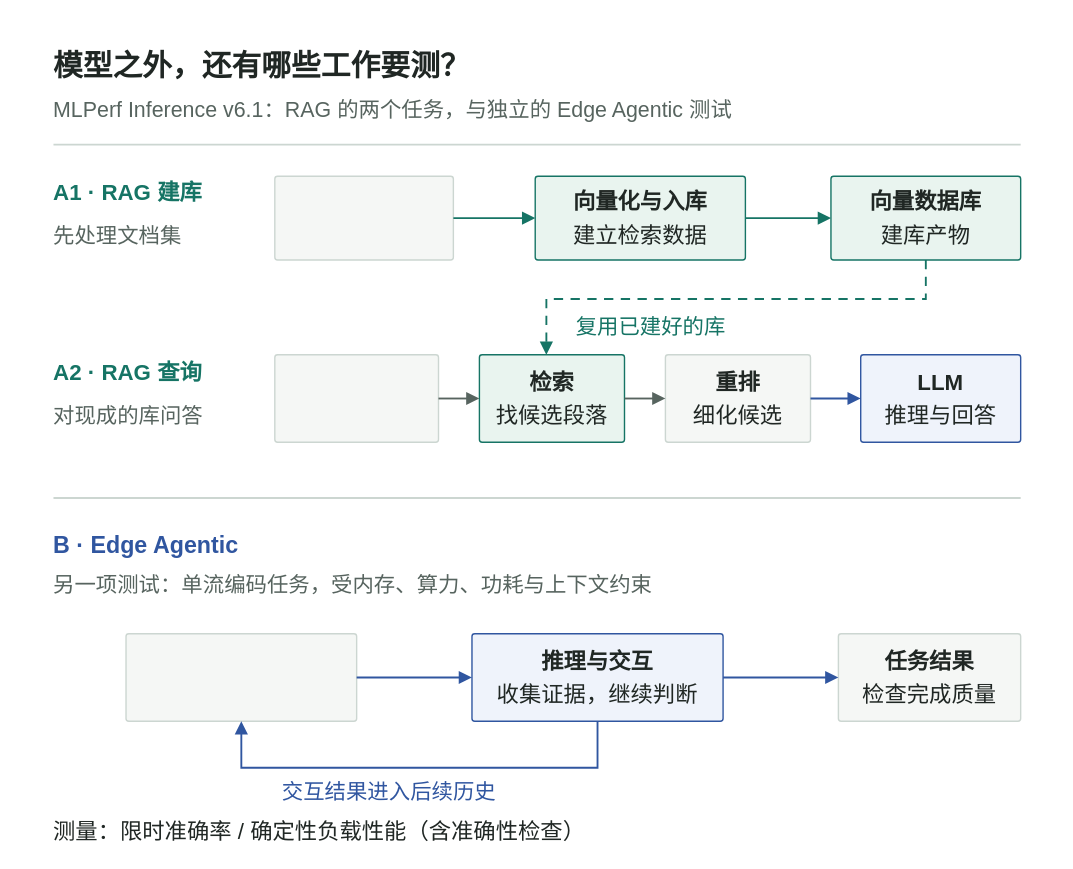
Image size: 1073x869. Some labels were removed from this diagram. Each missing label, with the box of its shape:
历史 + 当前输入 前一轮影响后一轮: (125, 633, 357, 721)
文档集 待摄入的资料: (274, 175, 454, 260)
问题向量化 编码当前查询: (274, 354, 439, 442)
